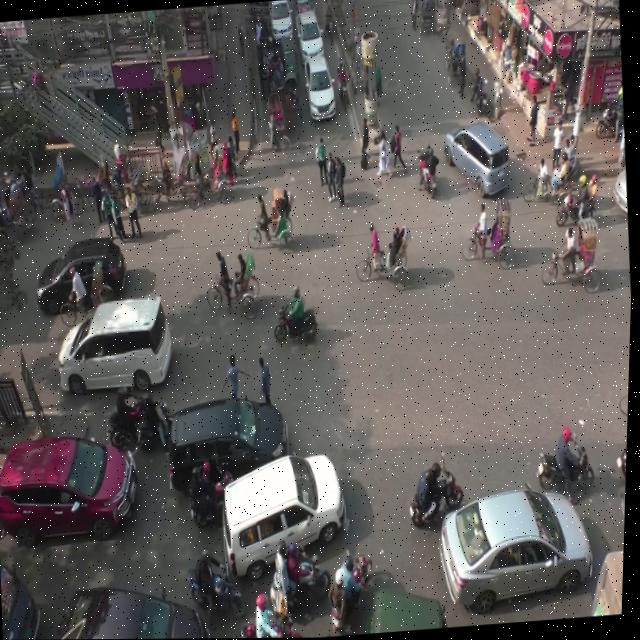rikshaw: (187, 228, 271, 331), (454, 185, 529, 285), (356, 216, 424, 303), (531, 209, 604, 289), (181, 134, 244, 220), (237, 179, 304, 258), (433, 33, 476, 101), (278, 59, 308, 143), (262, 91, 289, 164), (413, 0, 440, 45)
